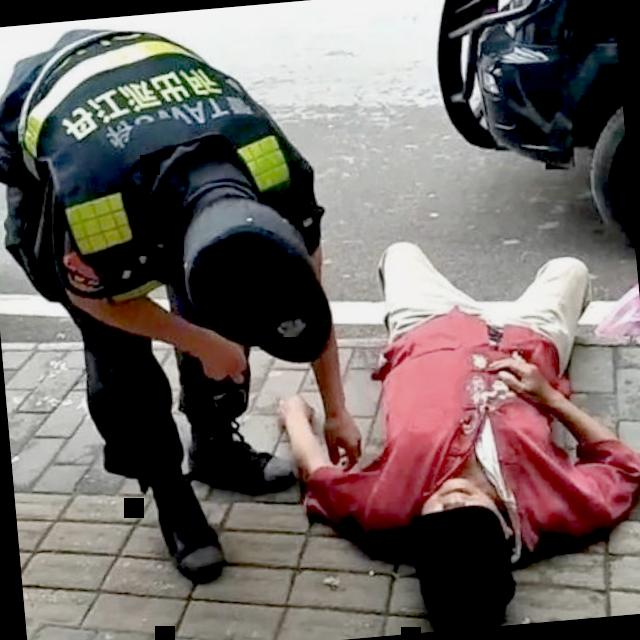Fall-Detected: (262, 194, 640, 634)
